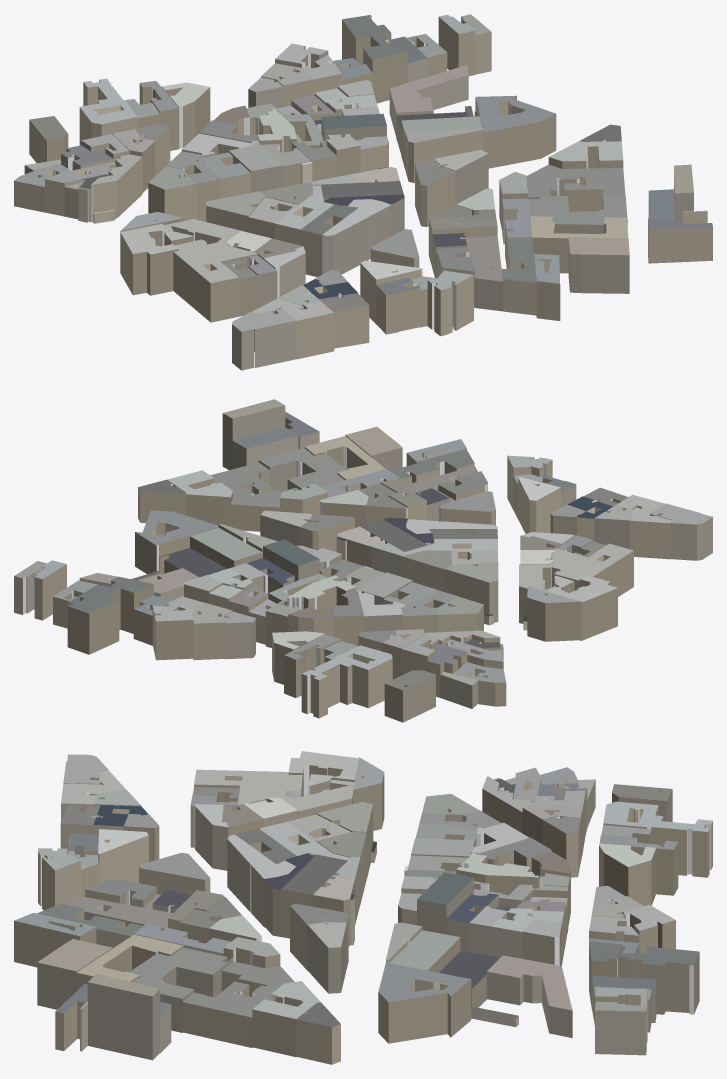
3 views of the same model, one above another, from view 1: azimuth 30°, elevation 25°; view 2: azimuth 150°, elevation 25°; view 3: azimuth 270°, elevation 25° (orthographic). The views are drawn at different scales.
Parts seen in each view (by area): view 1: tuile; view 2: tuile; view 3: tuile.
Boxes of the visible parts, x1,y1,x2,y2 form: tuile: [14, 14, 712, 370]; tuile: [14, 399, 712, 722]; tuile: [14, 751, 712, 1064].
Size of the model in its own units: 268 by 32.44 by 292.
